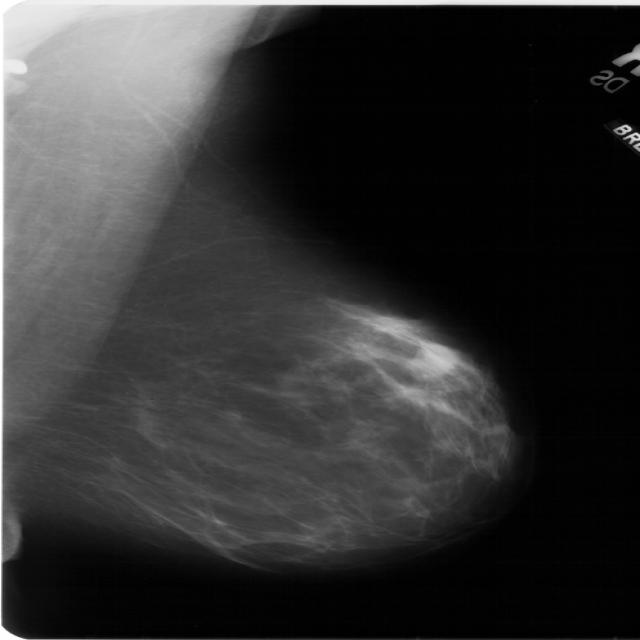tumour: (406, 343, 456, 378)
